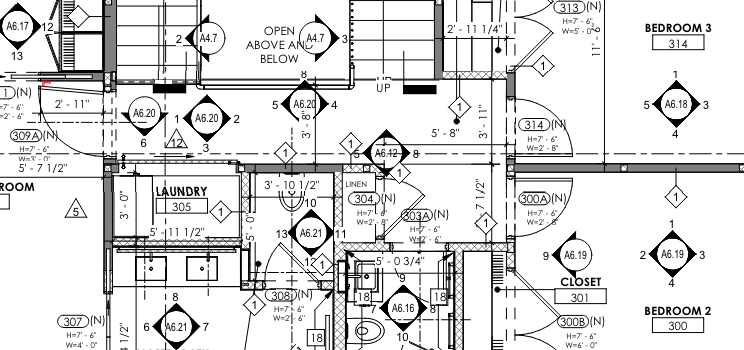door: (507, 94, 578, 160), (508, 177, 575, 237)
